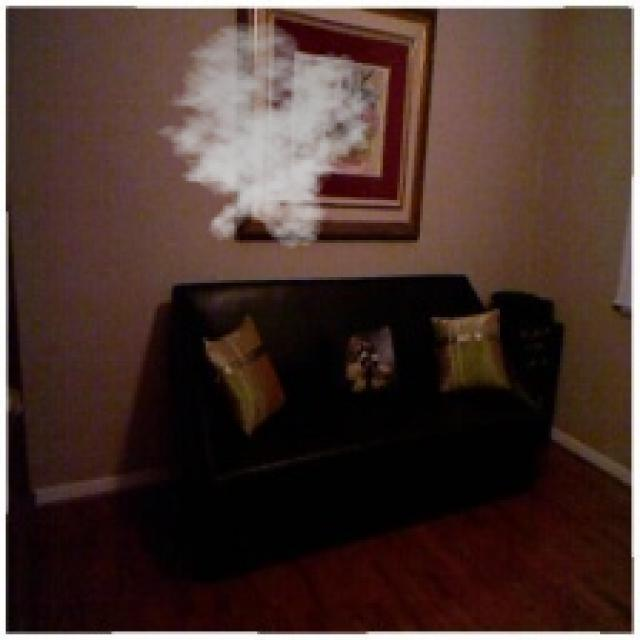Smoke: (143, 20, 380, 249)
